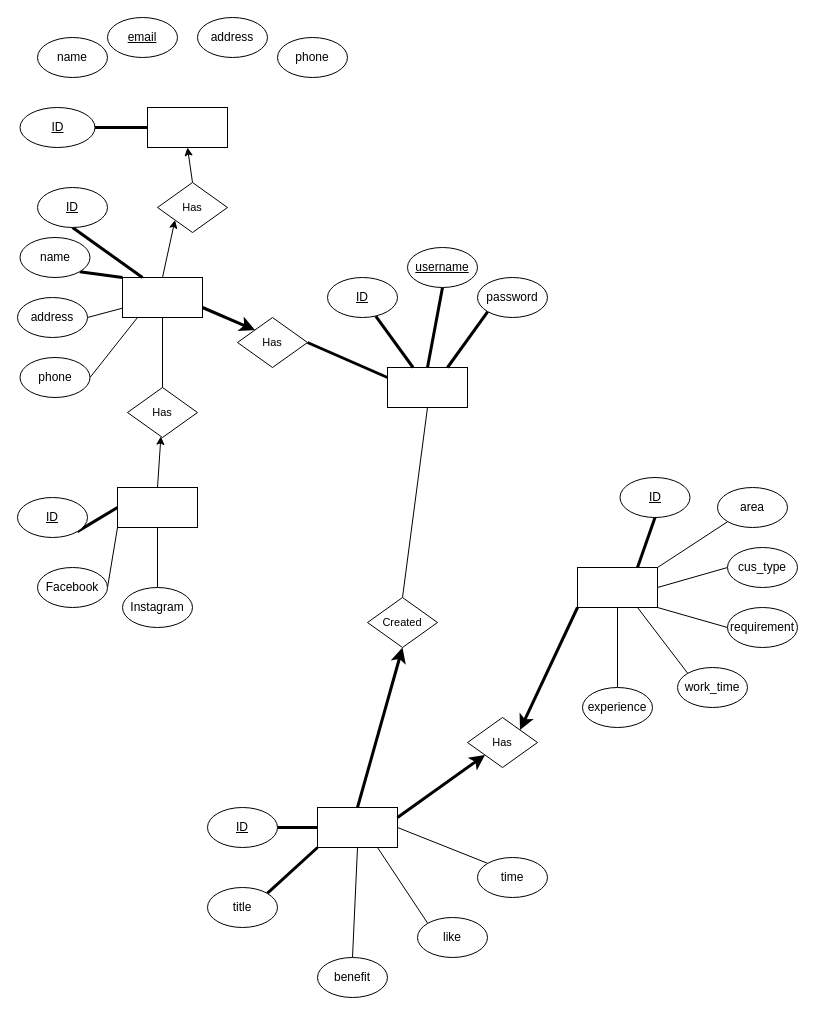
This 815x1015 diagram has some shape labels left out. The centre of each missing label's shape, as x and y in pixels:
"Company" belongs at (162,297).
"Contact" belongs at (187,127).
"Description" belongs at (617,587).
"Job_Post" belongs at (357,827).
"social" belongs at (157,507).
"User" belongs at (427,387).
